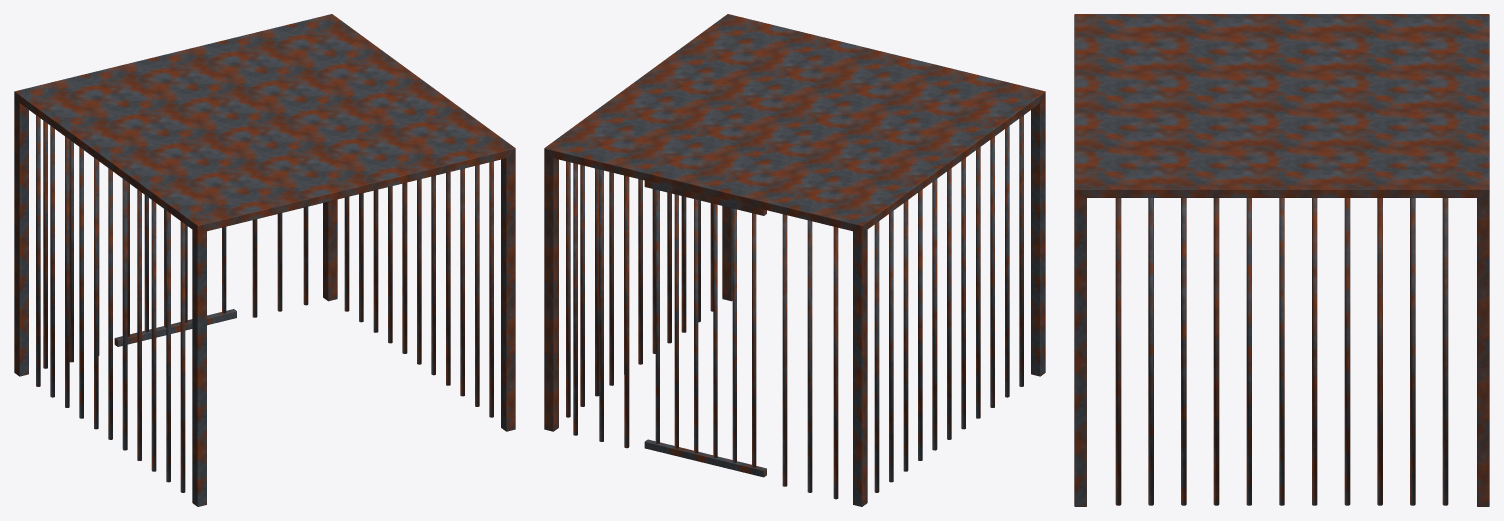
File: prop_holding_cage.glb
3 renders of one model, left to right at view 1: azimuth 30°, elevation 25°; view 2: azimuth 150°, elevation 25°; view 3: azimuth 270°, elevation 25°, orthographic. The views are drawn at different scales.
Parts seen in each view (by area): view 1: CRoofFrame, CPost_-1.6_-1.6, CPost_1.6_-1.6, CPost_-1.6_1.6, SideBar_-1_-1, SideBar_-1_-3, SideBar_-1_-5, CPost_1.6_1.6, SideBar_-1_4, SideBar_-1_0, SideBar_-1_2, SideBar_-1_-4 (+22 smaller); view 2: CRoofFrame, CPost_-1.6_1.6, CPost_1.6_1.6, CPost_-1.6_-1.6, FrontBar_0.82, FrontBar_-1.35, FrontBar_-0.82, FrontBar_-1.08, SideBar_-1_1, SideBar_-1_3, SideBar_-1_5, FrontBar_1.08 (+26 smaller); view 3: CRoofFrame, CPost_1.6_1.6, CPost_1.6_-1.6, SideBar_1_2, SideBar_1_5, SideBar_1_-2, SideBar_1_-5, SideBar_1_1, SideBar_1_-1, SideBar_1_0, SideBar_1_3, SideBar_1_4 (+2 smaller).
Boxes of the visible parts, bbox=[...] form: CRoofFrame: bbox=[14, 14, 515, 232]; CPost_-1.6_-1.6: bbox=[192, 227, 206, 506]; CPost_1.6_-1.6: bbox=[501, 153, 515, 431]; CPost_-1.6_1.6: bbox=[14, 99, 28, 376]; SideBar_-1_-1: bbox=[122, 179, 127, 450]; SideBar_-1_-3: bbox=[151, 200, 156, 471]; SideBar_-1_-5: bbox=[180, 221, 185, 492]; CPost_1.6_1.6: bbox=[323, 199, 337, 301]; SideBar_-1_4: bbox=[50, 126, 54, 397]; SideBar_-1_0: bbox=[108, 168, 112, 439]; SideBar_-1_2: bbox=[79, 147, 83, 418]; SideBar_-1_-4: bbox=[166, 211, 170, 482]; CRoofFrame: bbox=[544, 14, 1045, 232]; CPost_-1.6_1.6: bbox=[853, 227, 867, 506]; CPost_1.6_1.6: bbox=[544, 153, 558, 431]; CPost_-1.6_-1.6: bbox=[1031, 96, 1045, 376]; FrontBar_0.82: bbox=[624, 175, 629, 448]; FrontBar_-1.35: bbox=[833, 226, 838, 499]; FrontBar_-0.82: bbox=[782, 214, 787, 486]; FrontBar_-1.08: bbox=[807, 220, 812, 492]; SideBar_-1_1: bbox=[932, 179, 937, 450]; SideBar_-1_3: bbox=[903, 200, 908, 471]; SideBar_-1_5: bbox=[874, 221, 879, 492]; FrontBar_1.08: bbox=[599, 169, 603, 441]; CRoofFrame: bbox=[1074, 14, 1489, 197]; CPost_1.6_1.6: bbox=[1477, 194, 1489, 506]; CPost_1.6_-1.6: bbox=[1074, 194, 1086, 506]; SideBar_1_2: bbox=[1344, 198, 1350, 505]; SideBar_1_5: bbox=[1442, 198, 1448, 505]; SideBar_1_-2: bbox=[1213, 198, 1219, 505]; SideBar_1_-5: bbox=[1115, 198, 1121, 505]; SideBar_1_1: bbox=[1312, 198, 1317, 505]; SideBar_1_-1: bbox=[1246, 198, 1251, 505]; SideBar_1_0: bbox=[1279, 198, 1284, 505]; SideBar_1_3: bbox=[1377, 198, 1382, 505]; SideBar_1_4: bbox=[1410, 198, 1415, 505].
Size of the model in its own units: 3.3 by 2.79 by 3.3.
1 material, 1 textured.
